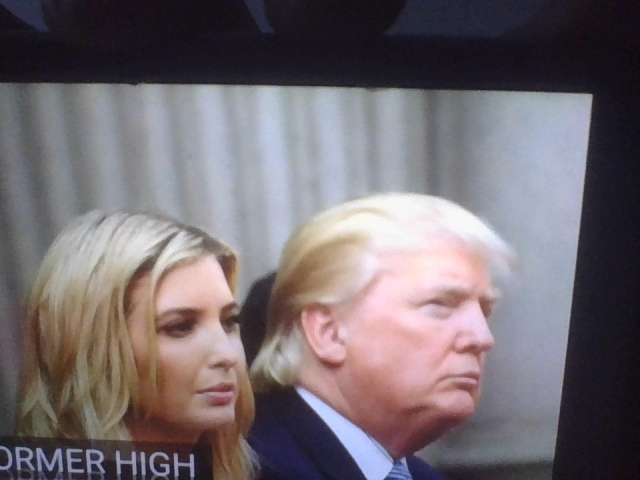fake: (319, 176, 513, 451), (102, 206, 271, 445)
